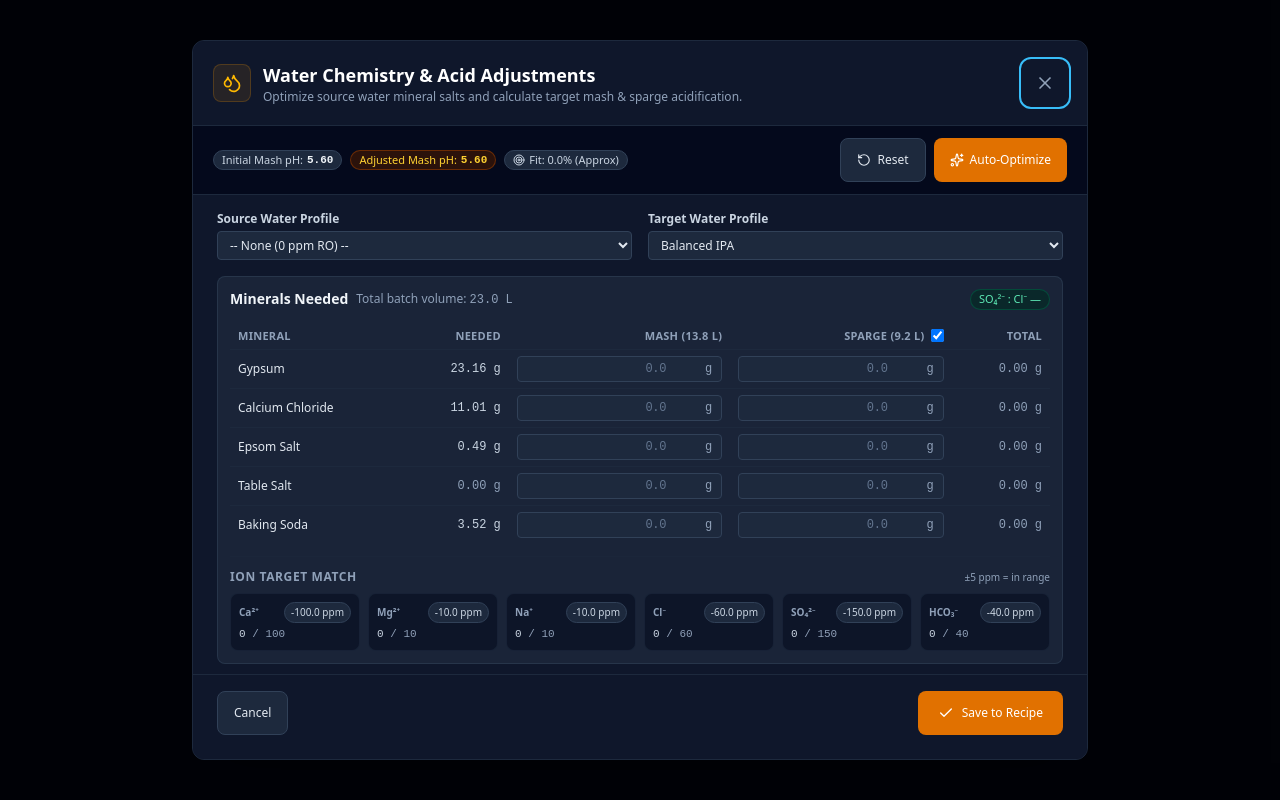
AC-8: Geometry invariance — toggling disables, never unmounts (RA-2) › preserves row and input counts on toggle-off and disables sparge inputs
What coordinates should you click on to do the following:
click the checkbox with test id "treat-sparge-water-toggle"
I would click on:
 (937, 336)
Its box is left=931, top=329, right=944, bottom=342.
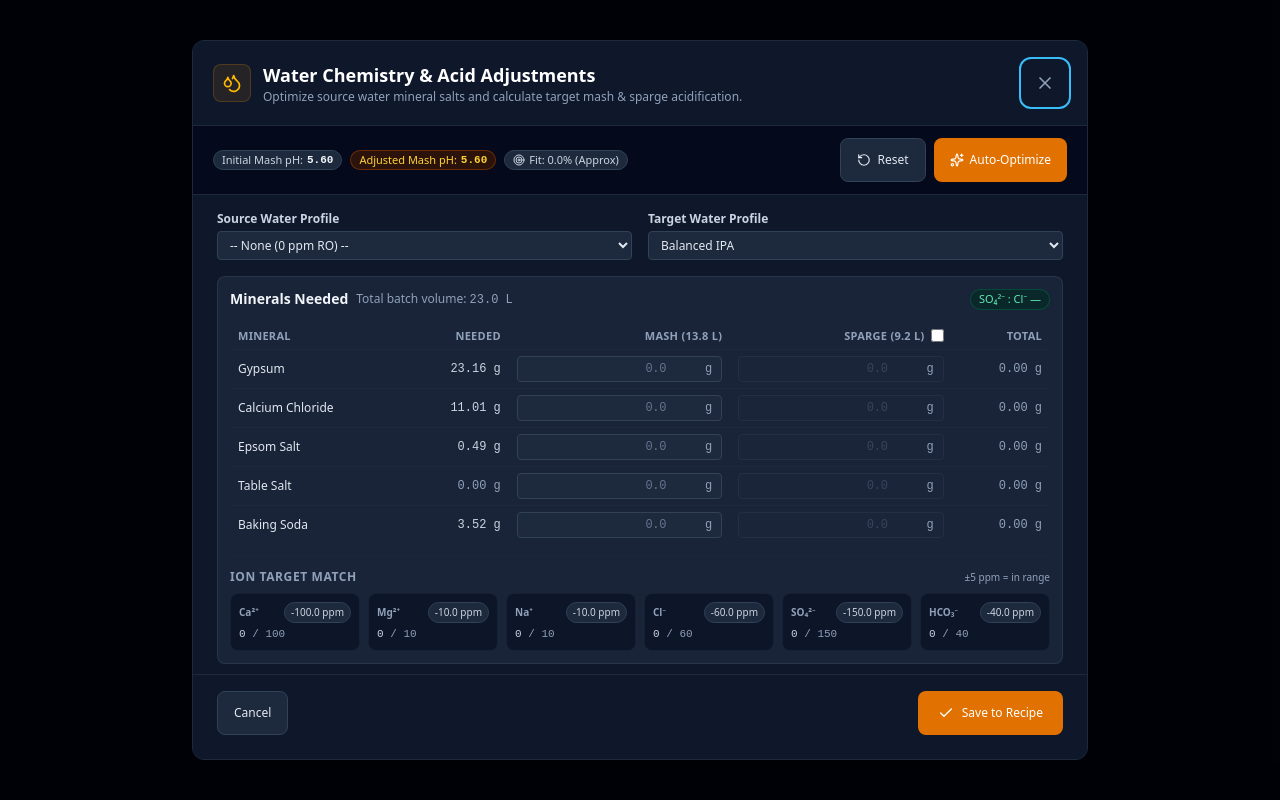
Check: the number field named "Sparge Gypsum" is disabled, box left=738, top=356, right=944, bottom=382
Check: the number field named "Sparge Calcium Chloride" is disabled, box left=738, top=395, right=944, bottom=421
Check: the number field named "Sparge Epsom Salt" is disabled, box left=738, top=434, right=944, bottom=460
